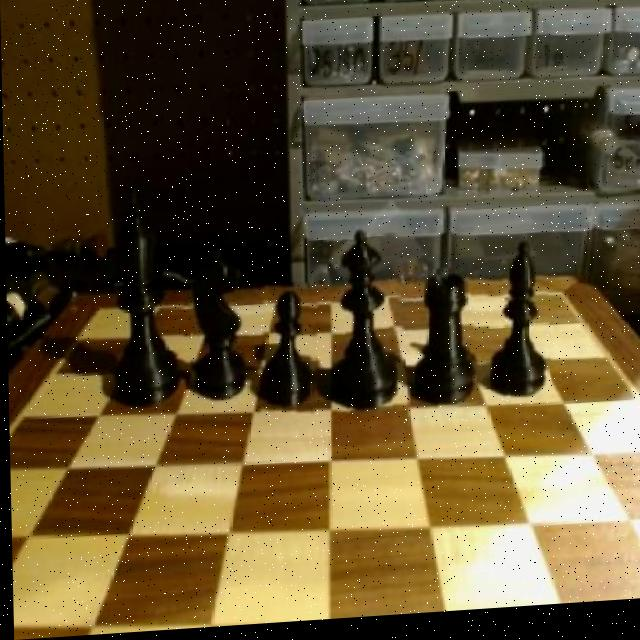bishop: (485, 244, 551, 409)
black-bishop: (108, 175, 186, 417)
black-king: (188, 246, 252, 403)
black-knight: (259, 284, 319, 421)
black-pawn: (328, 230, 407, 428)
black-queen: (413, 274, 475, 417)
